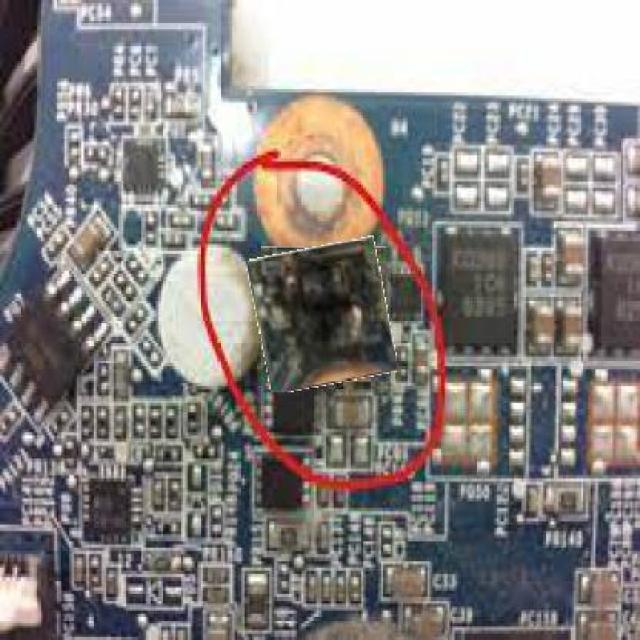Burn: (253, 240, 393, 388)
